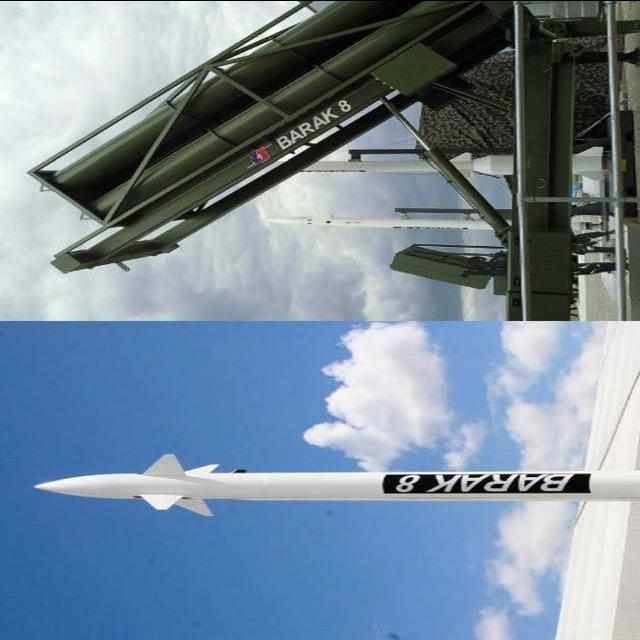missile: (16, 453, 640, 514)
